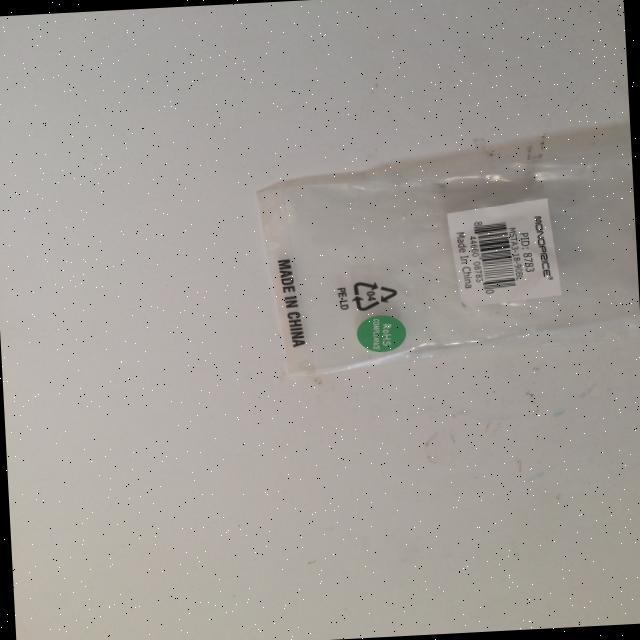plastic: (252, 129, 640, 379)
